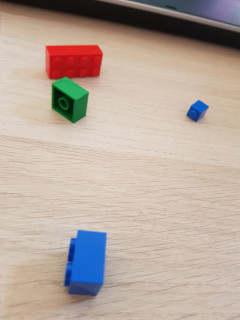1x1 blue: (186, 101, 209, 123)
2x2 blue: (64, 228, 107, 296)
2x2 green: (51, 77, 88, 123)
2x4 red: (44, 41, 104, 79)
